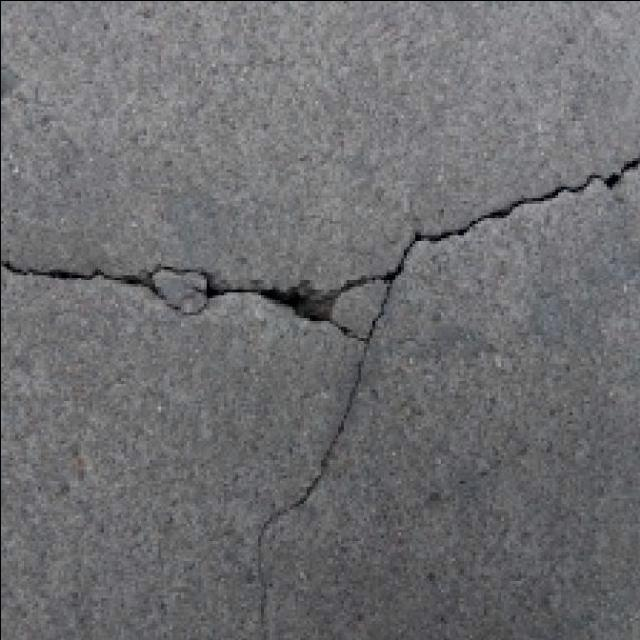SurfaceCrack: (208, 264, 402, 640)
